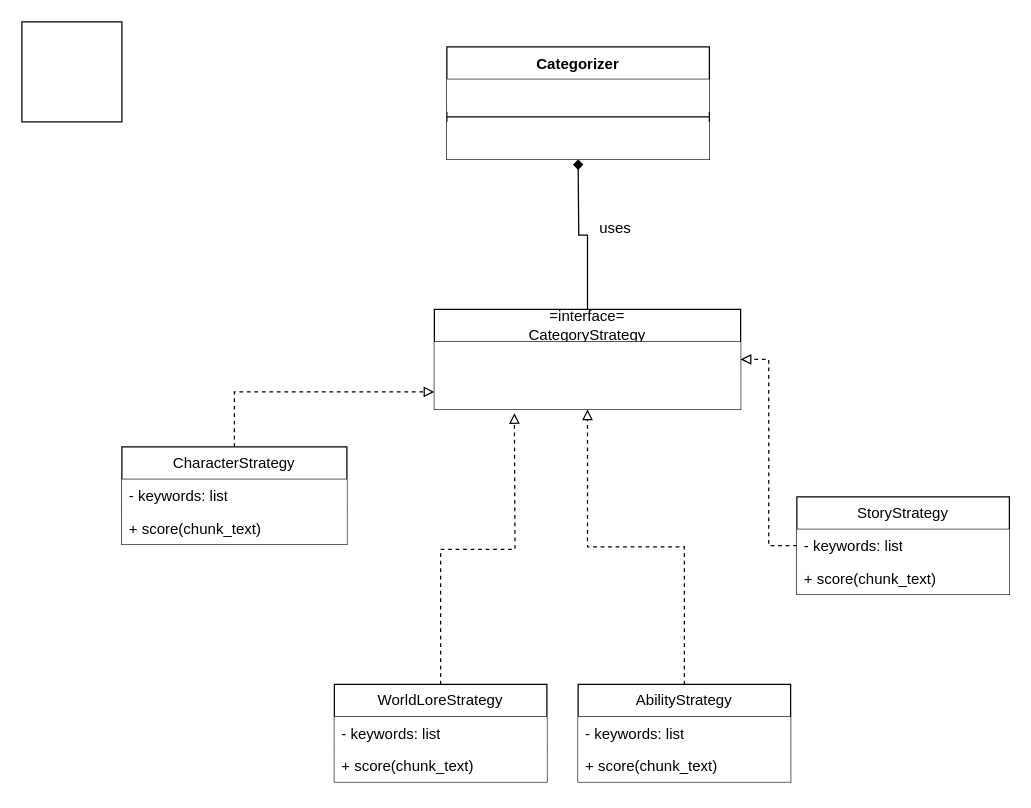
Image size: 1031x808. Some labels were removed from this diagram. Here are the shapes that lost their labels. From the top down, the centre of each, then its label:
(577,95): - strategies: list
(577,140): + classify(chunk_text)
(587,357): + score(chunk_ text)
(587,391): + category_name
